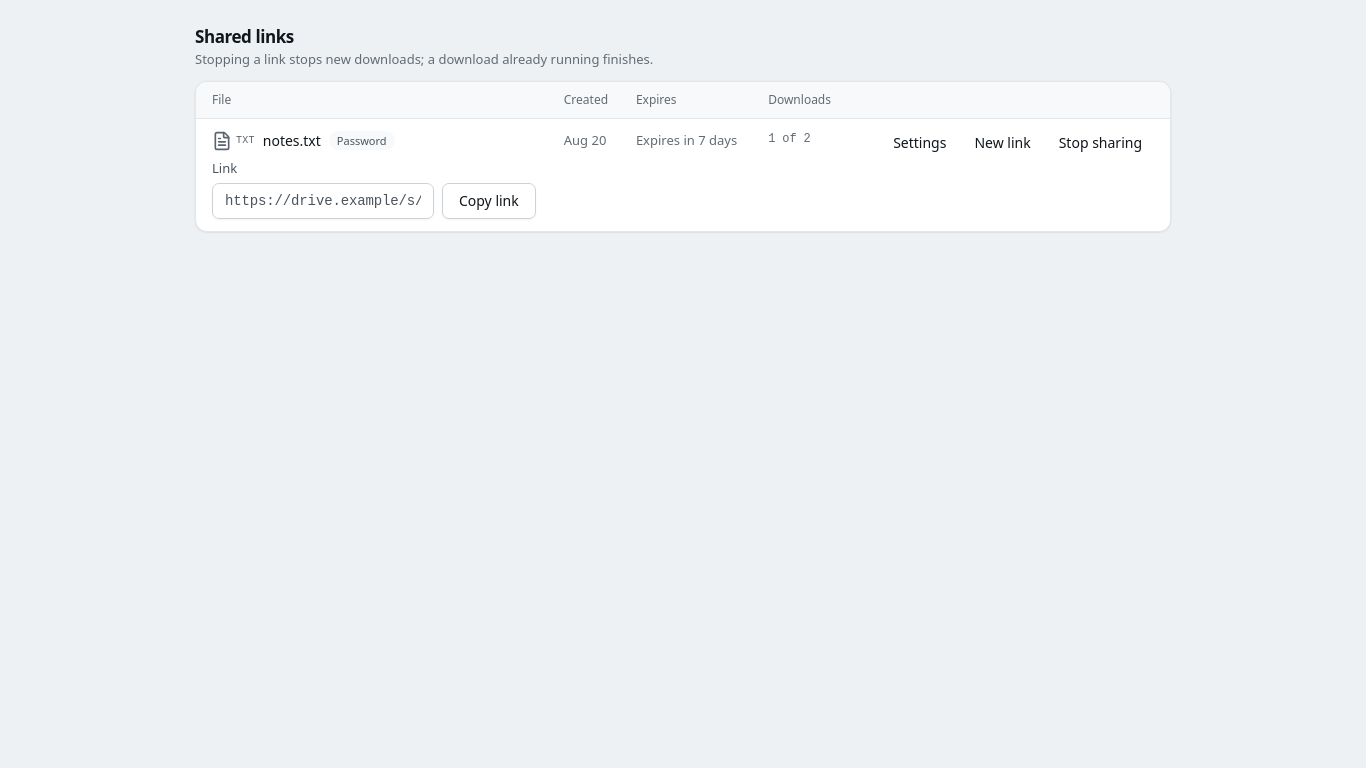
Test: the actions › never carries Copied from the old link over to the new one
Expected: the link "notes.txt" is shown, 263,130 -> 321,150
What coordinates should you click on to do the following:
click the button "Copy link"
I would click on:
 (489, 201)
Its box is 442,183 -> 536,219.
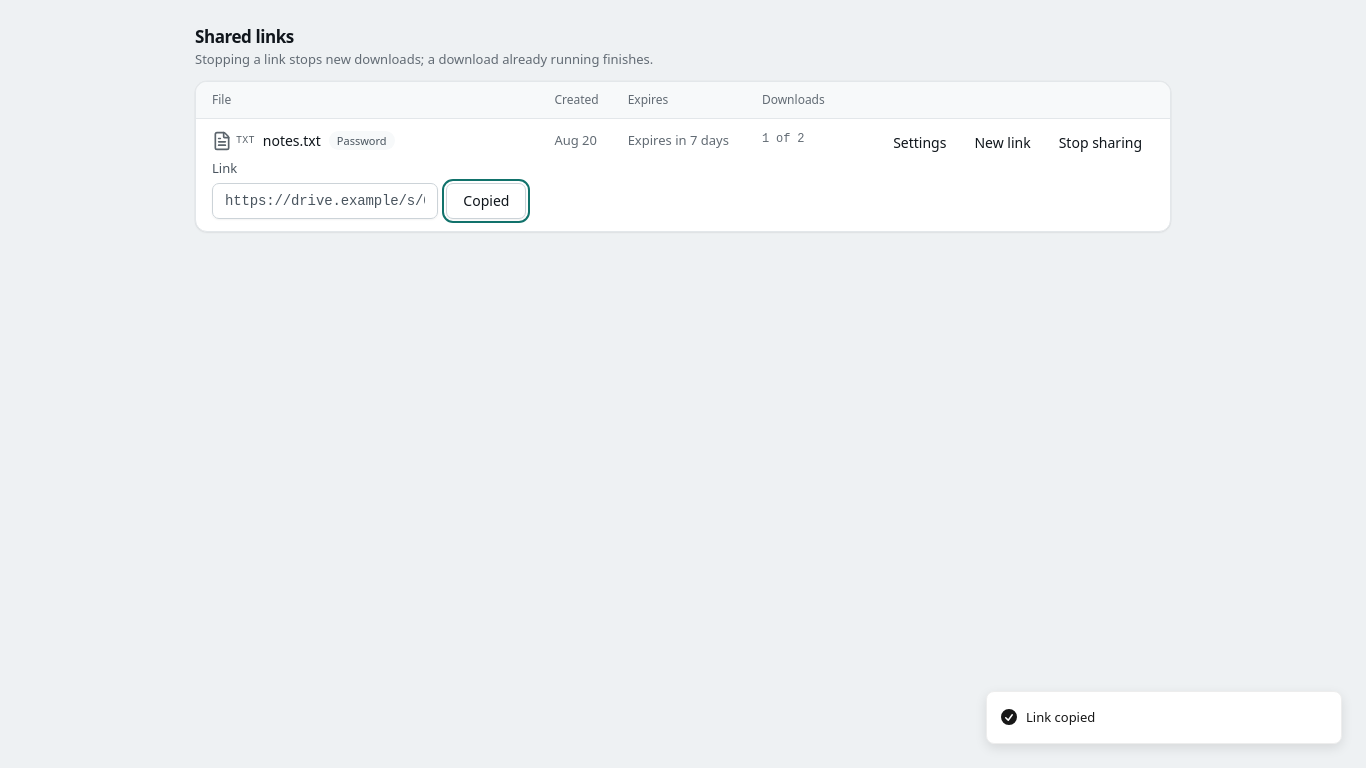
Now the button "Copied" is shown, box 446,183 -> 526,219
# New link, confirmed, inside the two seconds Copied would otherwise stand.
What coordinates should you click on to do the following:
click the button "New link"
I would click on:
 (1003, 142)
Its box is 962,126 -> 1043,158.
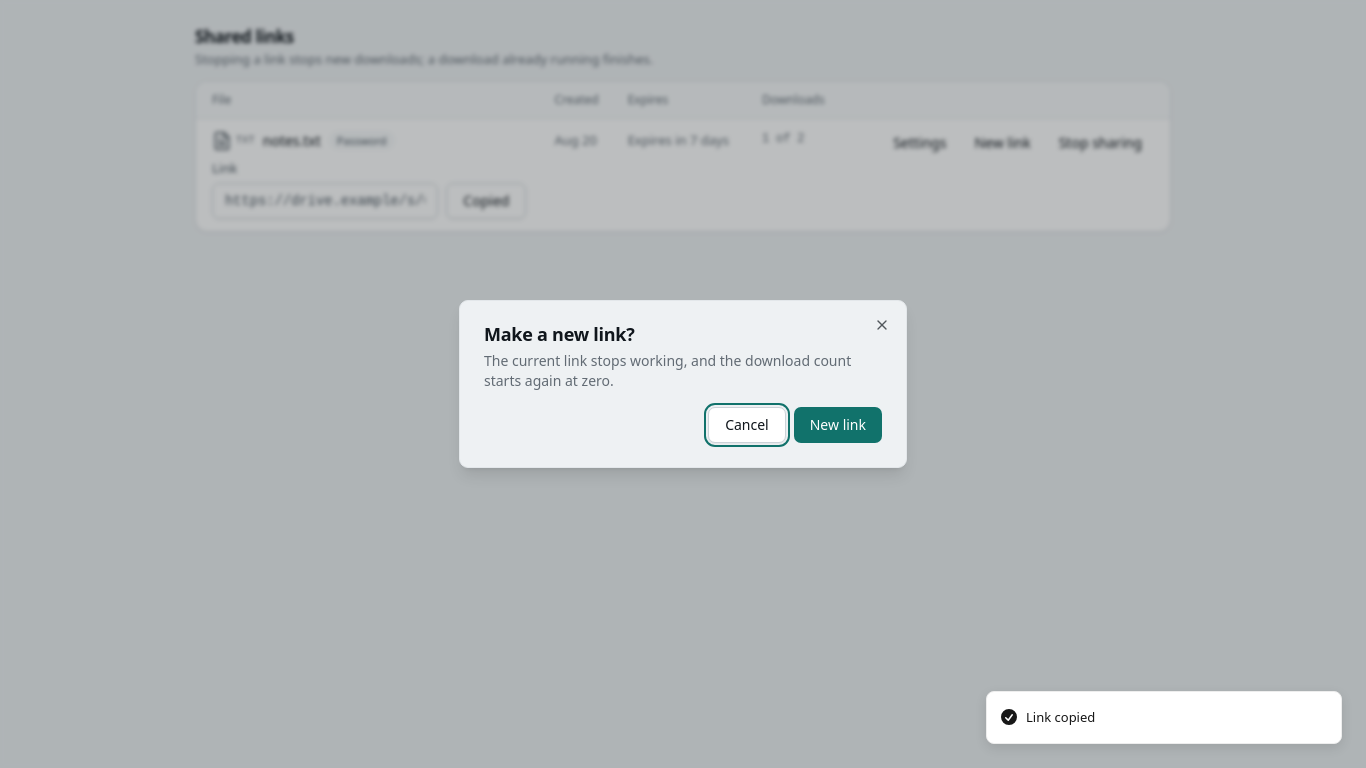
What coordinates should you click on to do the following:
click the button "New link"
I would click on:
 (838, 425)
Its box is 794,407 -> 882,443.
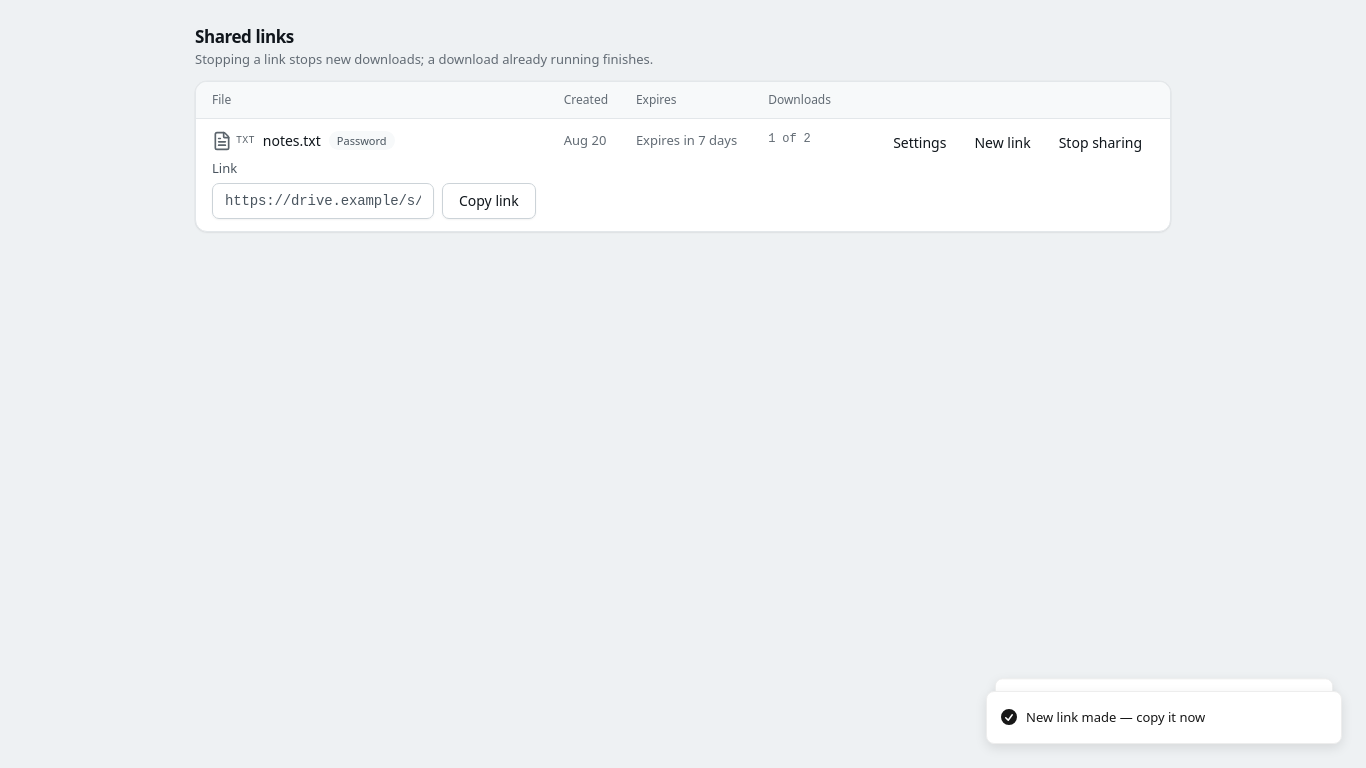
Now the field labelled "Link" holds "https://drive.example/s/fedcba9876543210fedcba9876543210fedcba98765", box 212,183 -> 434,219
Now the button "Copy link" is shown, box 442,183 -> 536,219
Now the button "Copied" is gone
